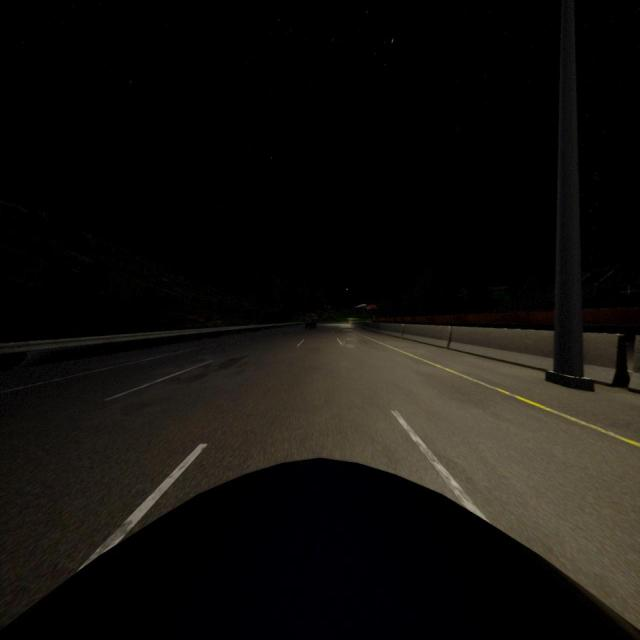Vehicle: (0, 456, 640, 640), (305, 313, 318, 331)
